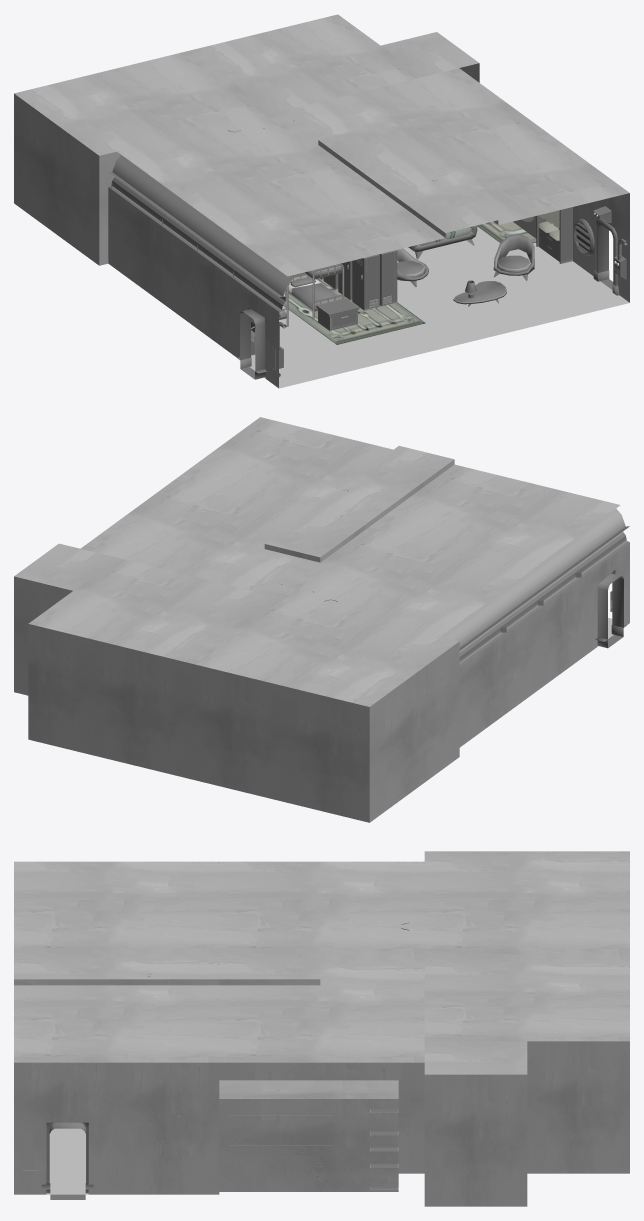
Rendered from MSH_living_quarters_L3_R2_optimized.fbx.
The picture shows the model from 3 angles, top to bottom: view 1: azimuth 30°, elevation 25°; view 2: azimuth 150°, elevation 25°; view 3: azimuth 270°, elevation 25°; orthographic projection. The views are drawn at different scales.
Visible parts, largest first — view 1: lightmap0, lightmap1, MSH_living_quarters_L3_R2_door; view 2: lightmap0, MSH_living_quarters_L3_R2_door; view 3: lightmap0, lightmap1.
Boxes of the visible parts, <box> form: lightmap0: <box>14,14,629,388</box>; lightmap1: <box>228,120,627,369</box>; MSH_living_quarters_L3_R2_door: <box>240,224,613,379</box>; lightmap0: <box>14,417,629,822</box>; MSH_living_quarters_L3_R2_door: <box>597,573,623,648</box>; lightmap0: <box>14,851,629,1206</box>; lightmap1: <box>23,922,408,1189</box>.
Bounding box in the file's own units: 21.24 × 6.16 × 24.77.
